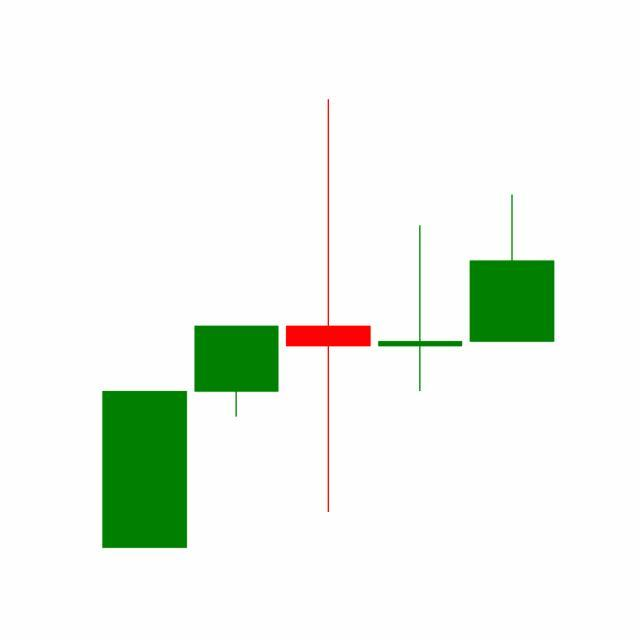Spinning Top: (374, 223, 468, 394)
